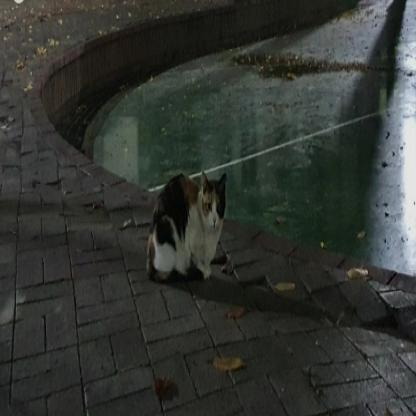cat: (144, 156, 229, 278)
